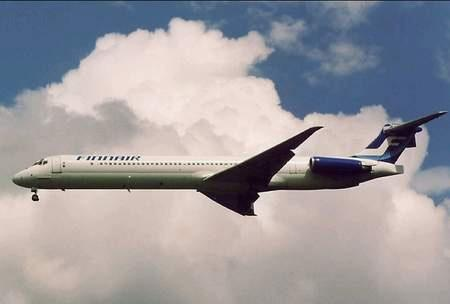airplane: (7, 109, 450, 208)
